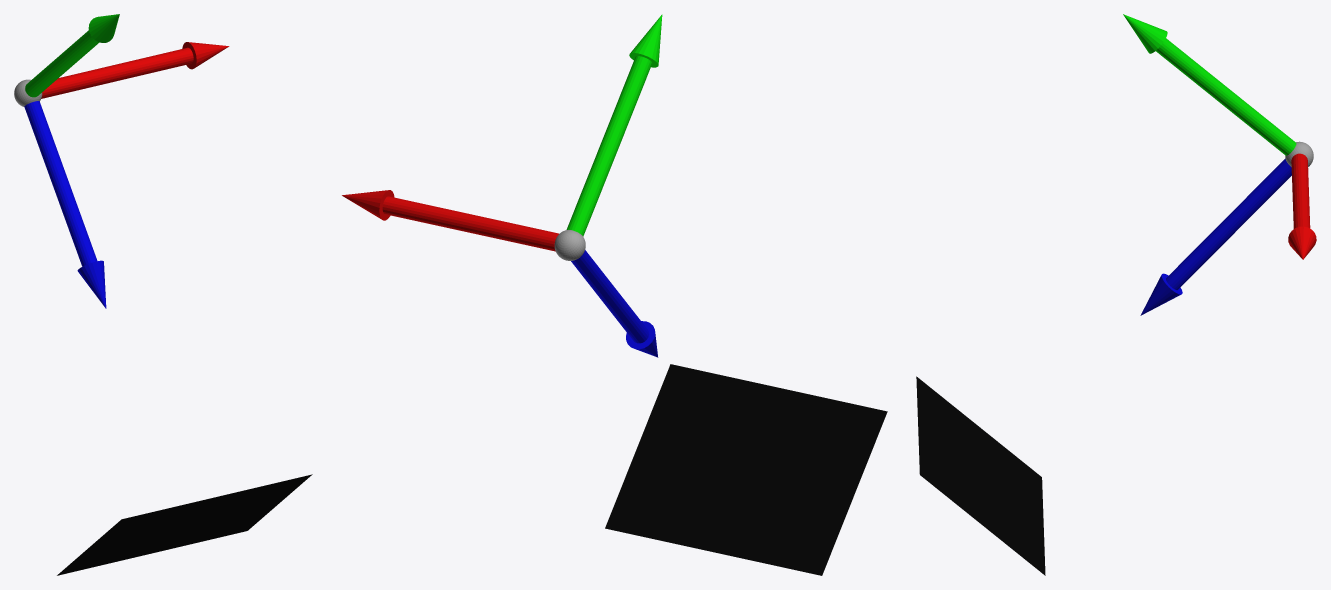
3 renders of one model, left to right at view 1: azimuth 30°, elevation 25°; view 2: azimuth 150°, elevation 25°; view 3: azimuth 270°, elevation 25°, orthographic. The views are drawn at different scales.
Size of the model in its own units: 0.1857 by 0.3001 by 0.2102.
